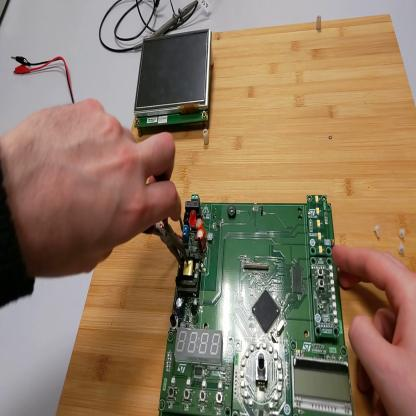hand: (9, 97, 180, 279), (332, 243, 416, 416)
low voltage board: (159, 195, 355, 416)
oscilloscope probe tip: (134, 1, 200, 53)
pliers: (142, 175, 190, 268)
working area: (57, 9, 416, 415)
